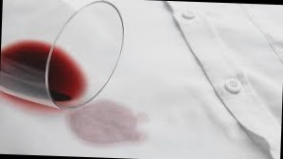wine: (63, 95, 148, 146)
